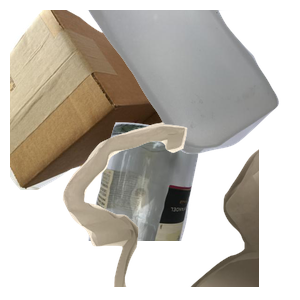cardboard: (10, 10, 206, 190)
glass: (86, 120, 277, 300)
plastic: (84, 10, 300, 157)
trash: (60, 120, 300, 300)
